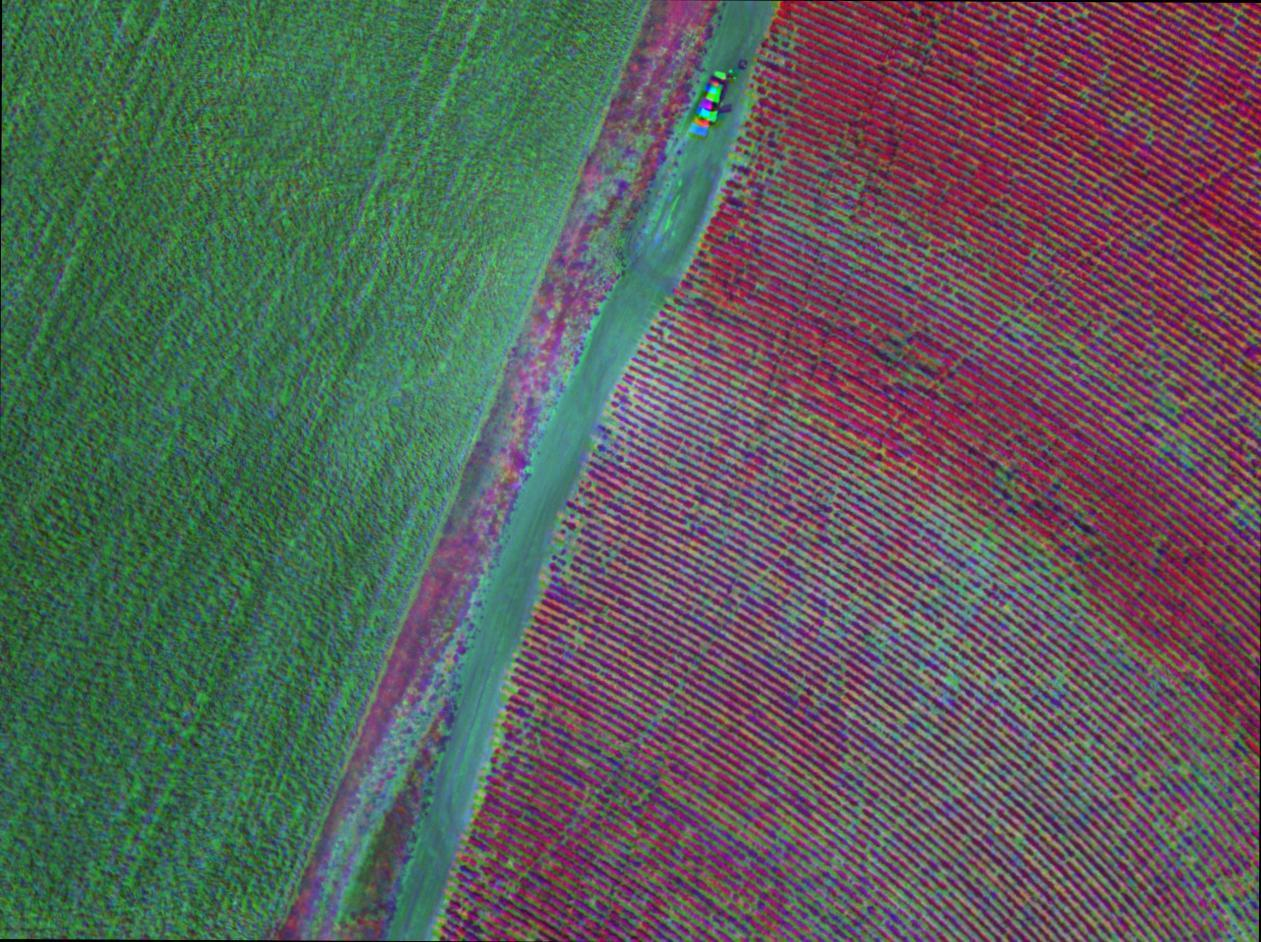dc: (974, 544, 978, 548), (952, 677, 956, 681), (1083, 743, 1087, 747), (982, 767, 986, 771), (1054, 568, 1058, 571), (1007, 605, 1010, 609), (1155, 661, 1158, 665), (990, 524, 993, 527)
